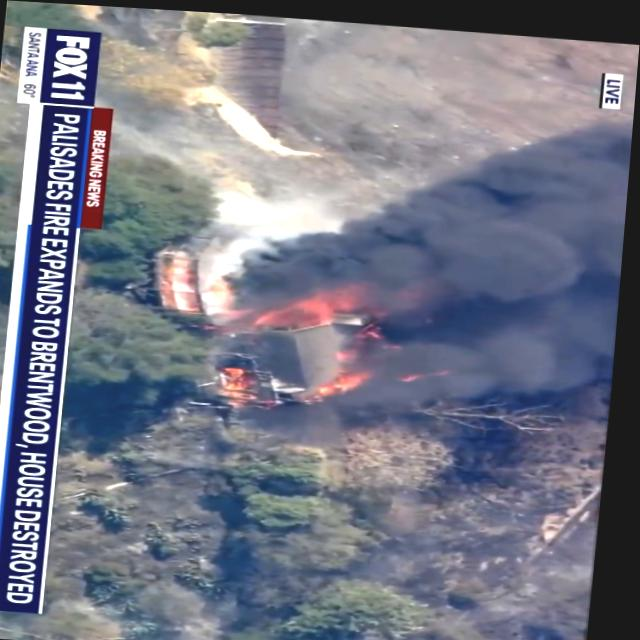Smoke: (245, 93, 635, 412)
